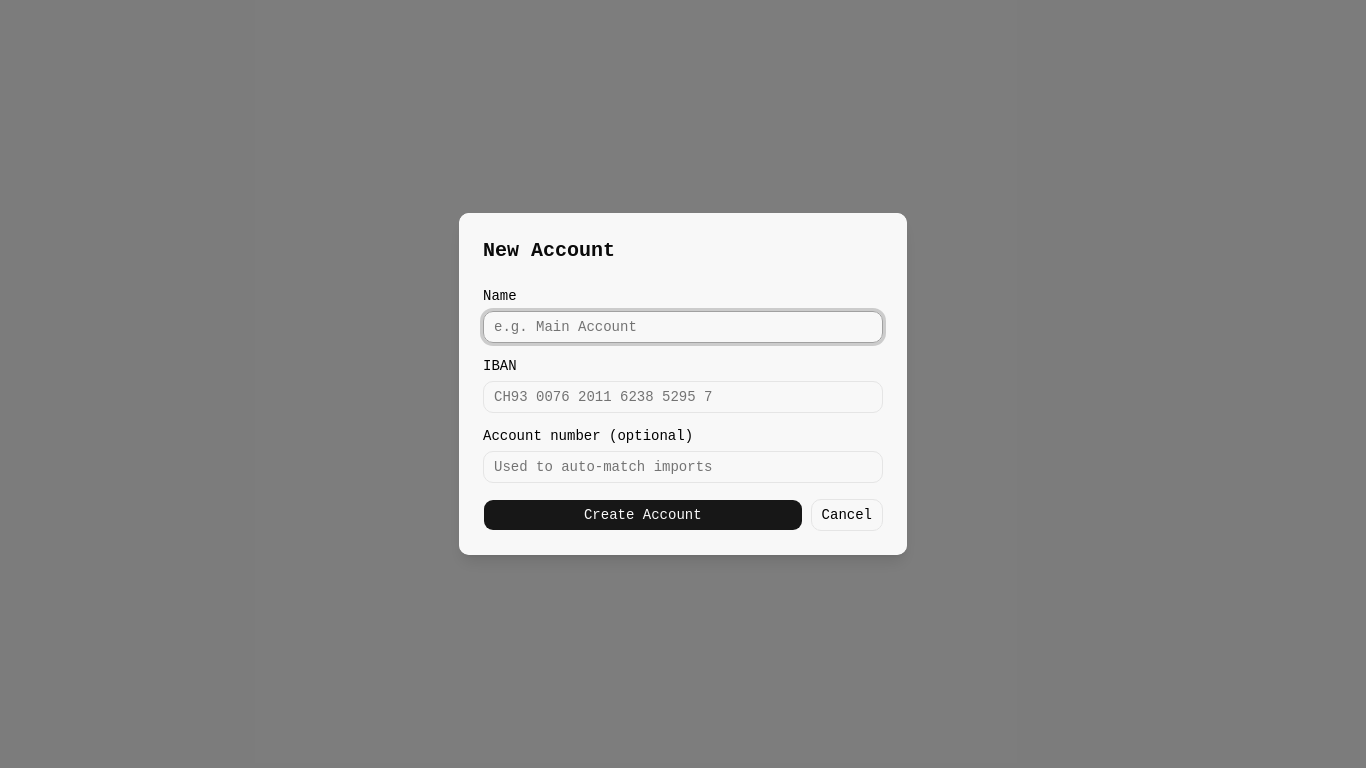
Test case: AccountFormDialog › maps a 409 conflict to the IBAN-exists message
Type "Main" into the field labelled "Name" at [683, 327], box x1=483 y1=311 x2=883 y2=343
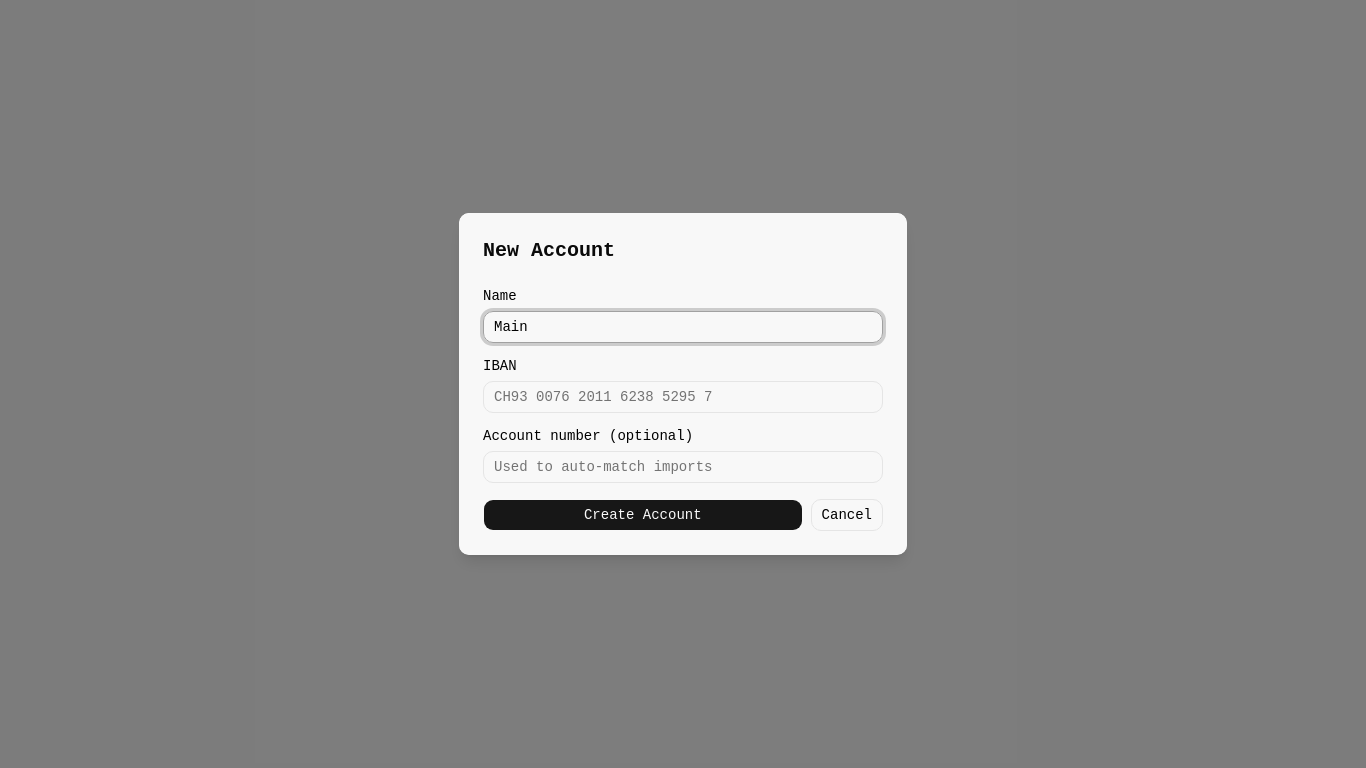
Type "CH00 0001" into the field labelled "IBAN" at [683, 397], box x1=483 y1=381 x2=883 y2=413
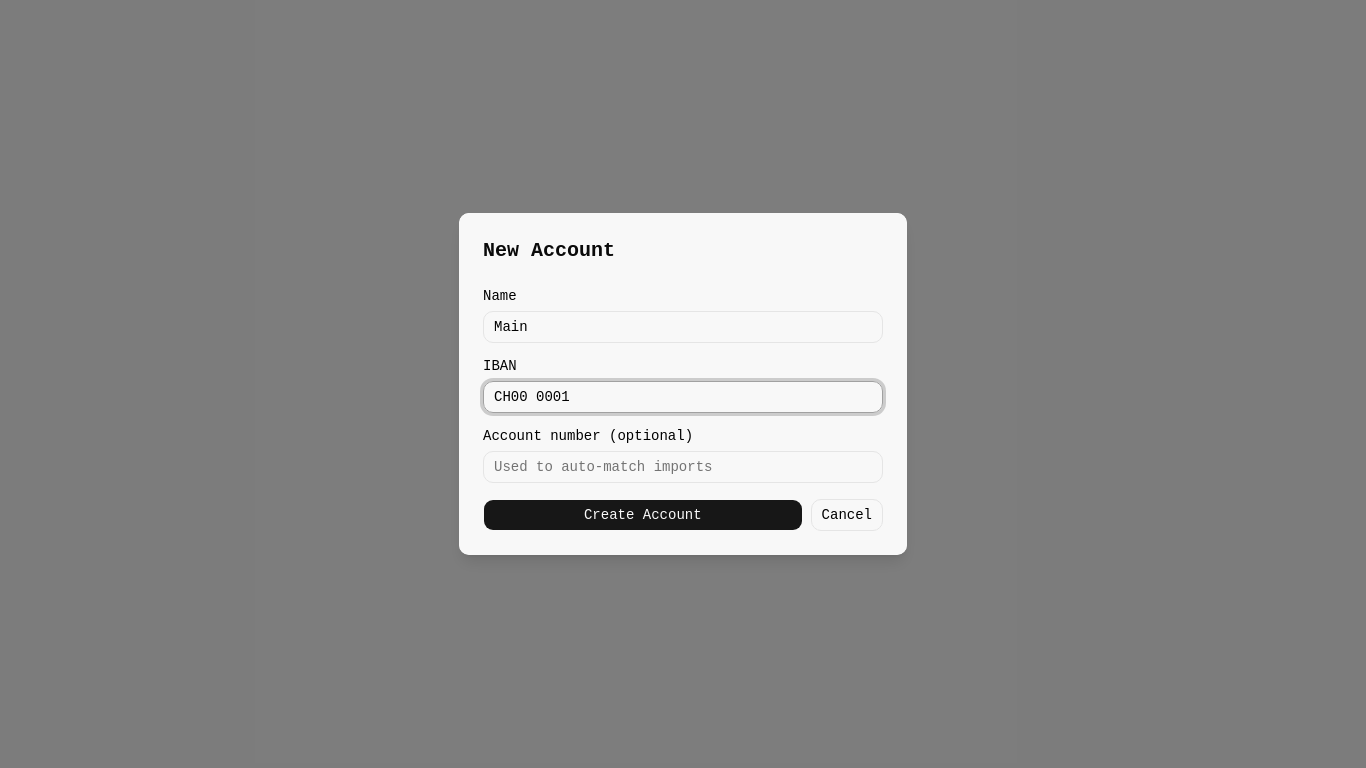
Click the button "Create Account" at [643, 515], box x1=483 y1=499 x2=803 y2=531
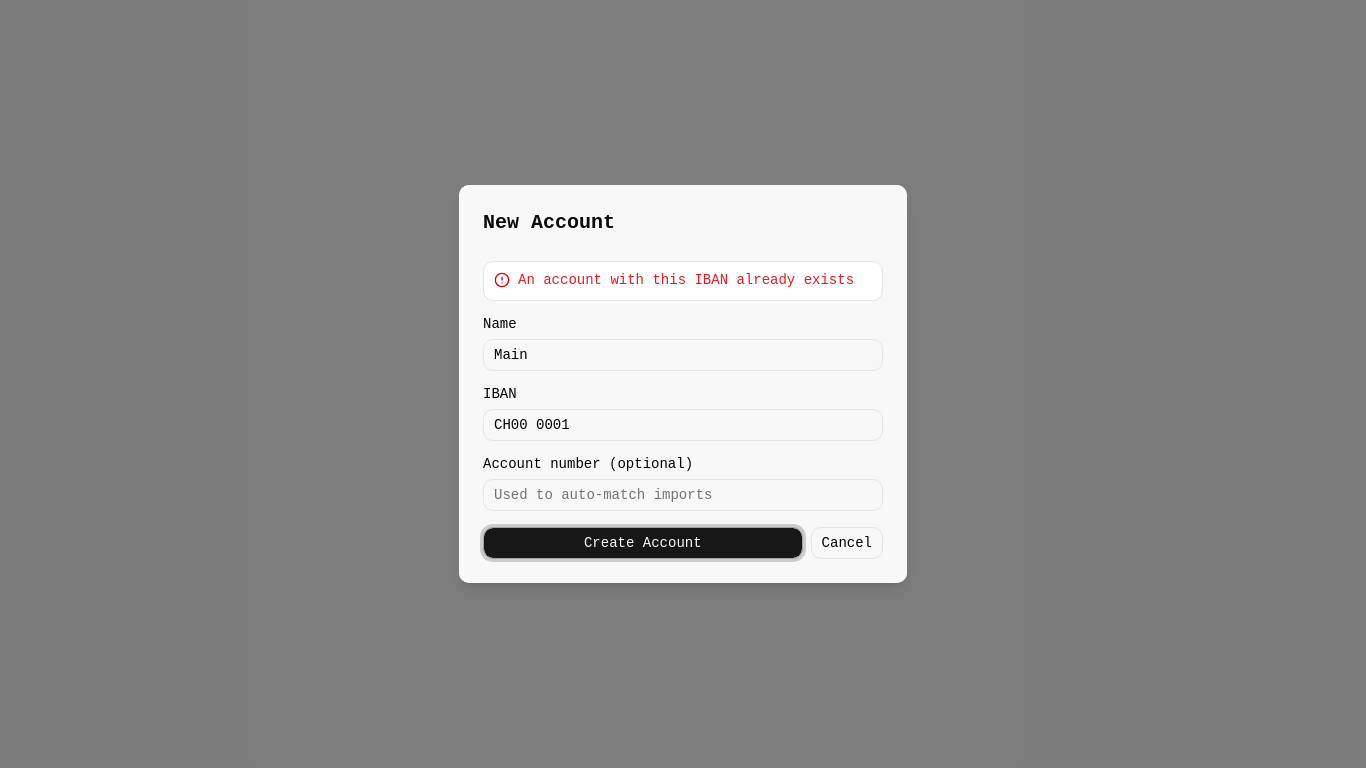
Check: the text "An account with this IBAN already exists" is shown, box x1=518 y1=270 x2=872 y2=290
